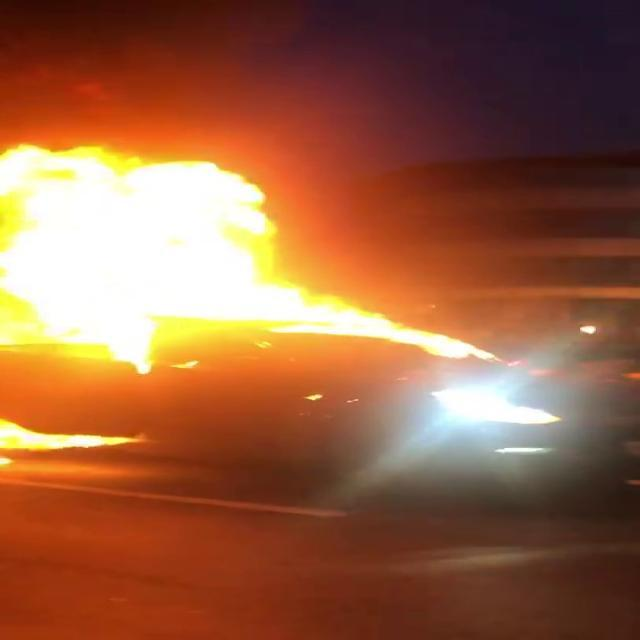Fire: (0, 136, 465, 372)
Smoke: (0, 0, 429, 158)
